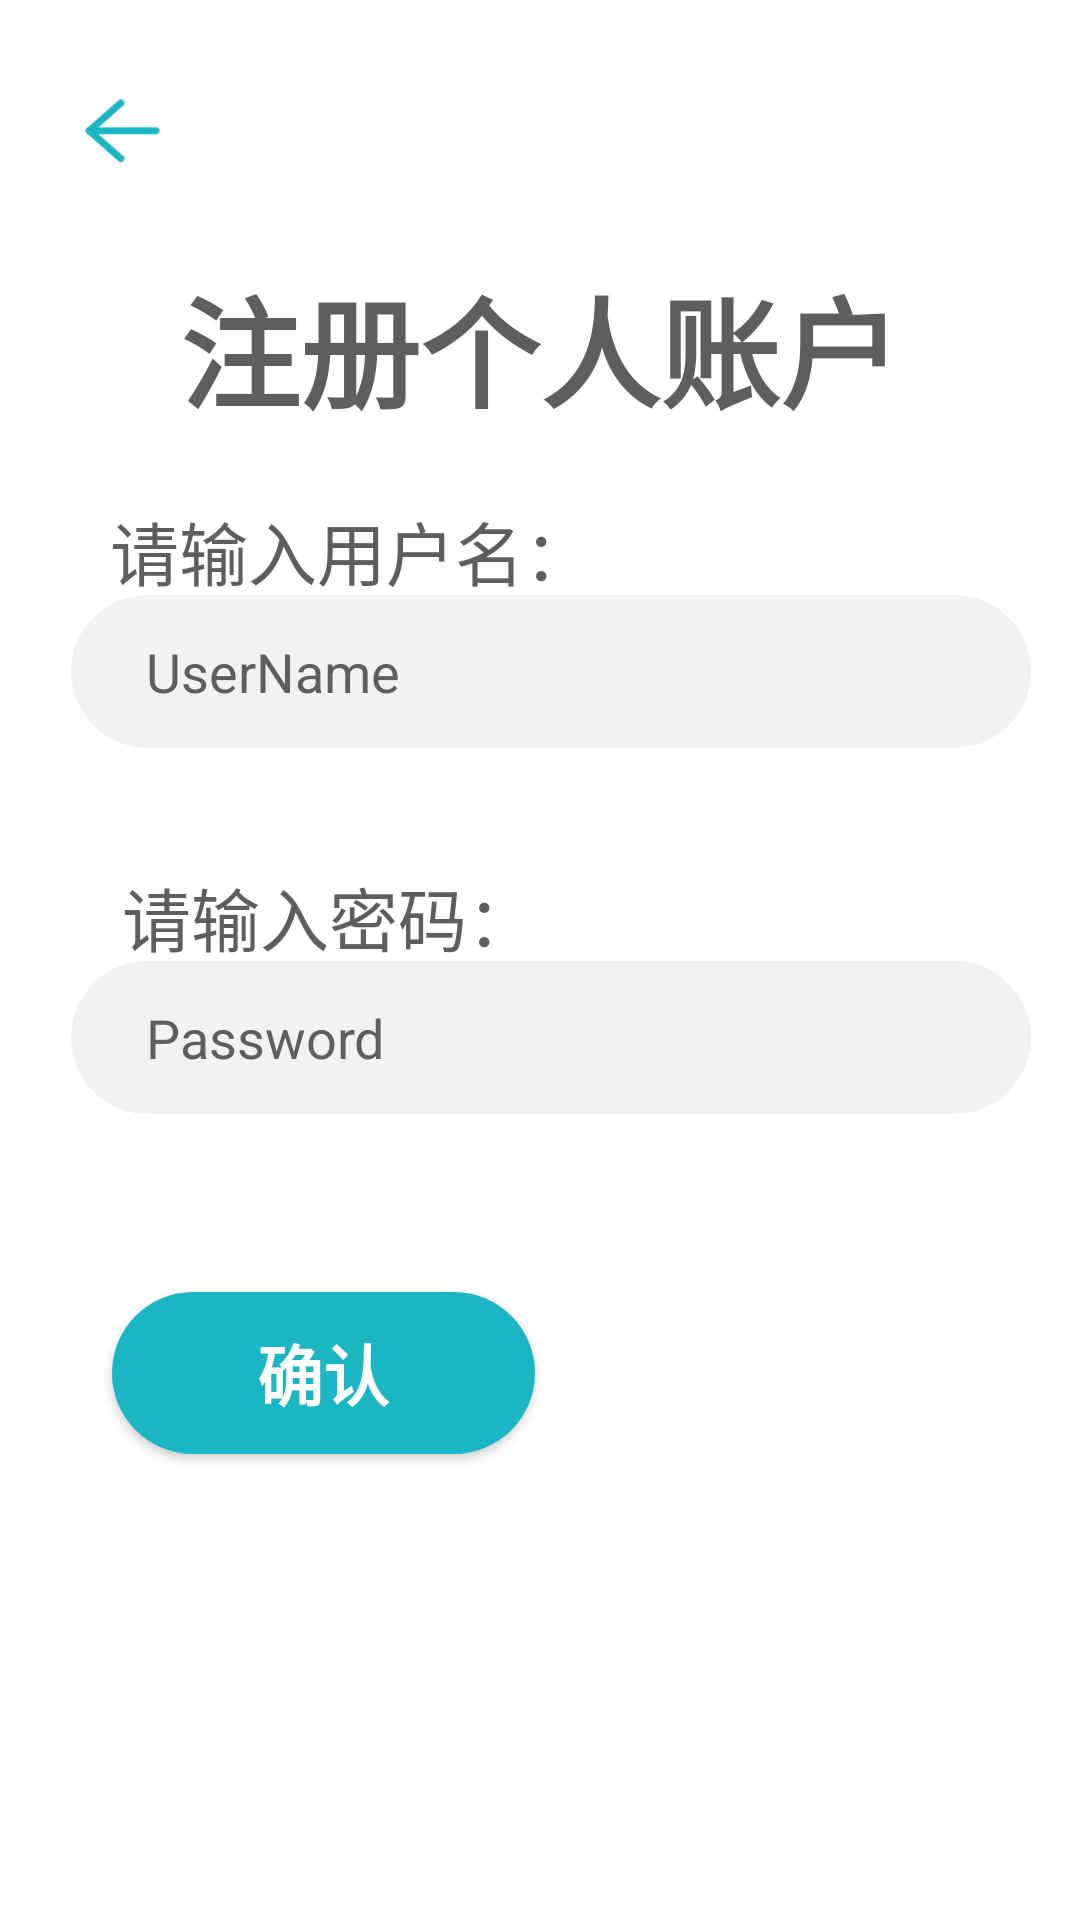

Screen size 1080x1920. Icon name, then its center in pixels as [x,y]:
backbotton: [122,131]
